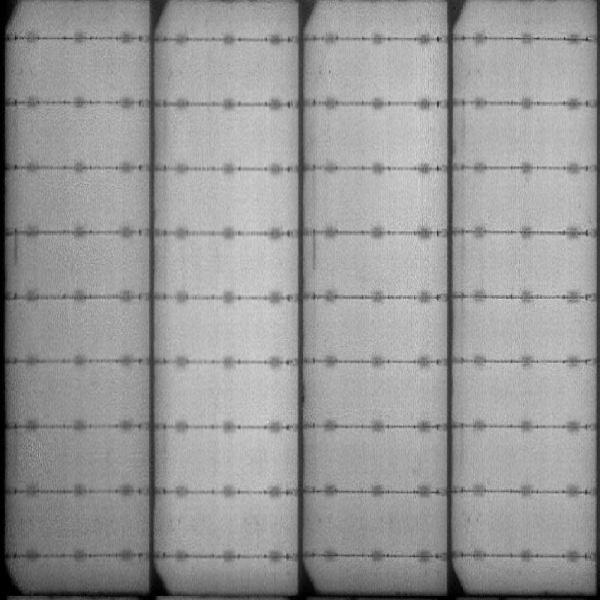scratch: (311, 221, 323, 275)
